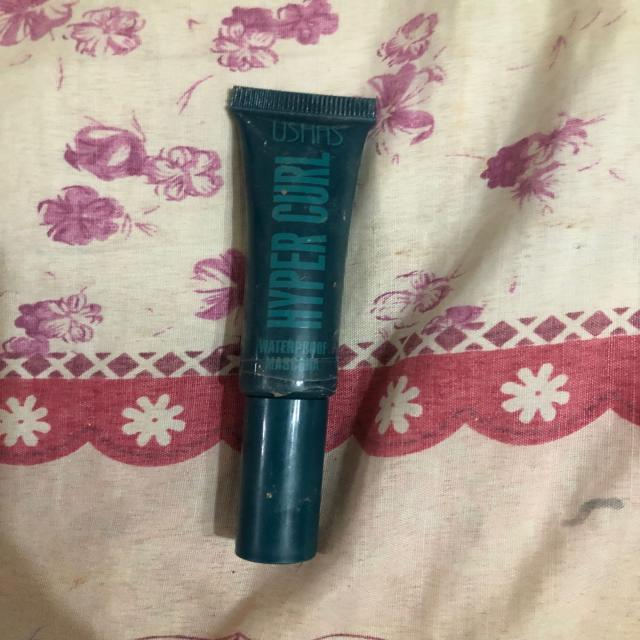primer: (190, 47, 394, 586)
